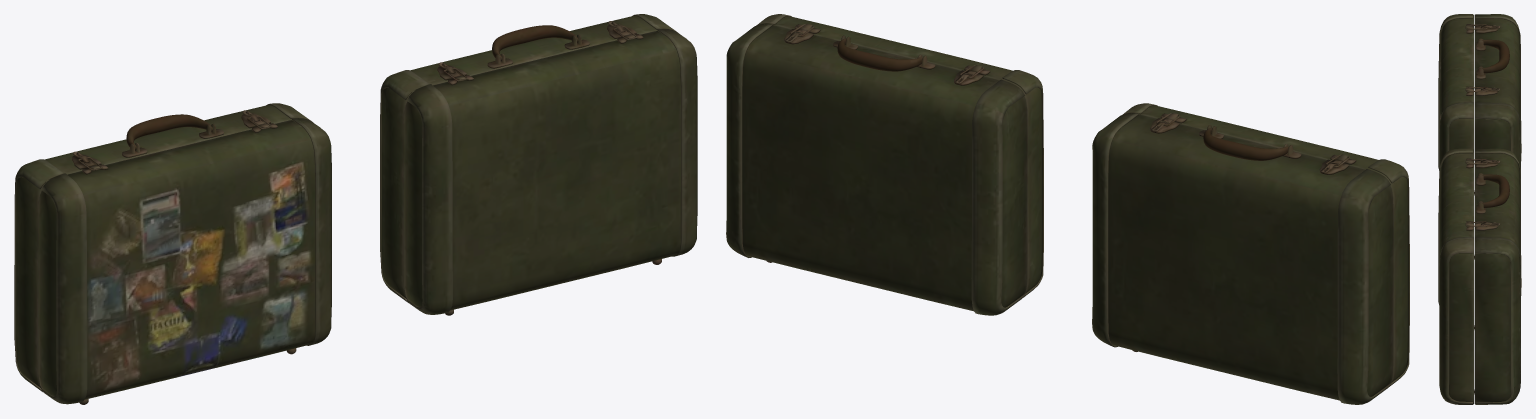
The model's file is vintage_suitcase.glb.
The picture shows the model from 3 angles, left to right: view 1: azimuth 30°, elevation 25°; view 2: azimuth 150°, elevation 25°; view 3: azimuth 270°, elevation 25°; orthographic projection. The views are drawn at different scales.
Parts seen in each view (by area): view 1: vintage_suitcase_02_top, vintage_suitcase_01_top, vintage_suitcase_01_bottom, vintage_suitcase_02_bottom, vintage_suitcase_01_handle, vintage_suitcase_02_handle; view 2: vintage_suitcase_01_bottom, vintage_suitcase_02_bottom, vintage_suitcase_01_top, vintage_suitcase_02_top, vintage_suitcase_01_handle, vintage_suitcase_02_handle; view 3: vintage_suitcase_01_bottom, vintage_suitcase_01_top, vintage_suitcase_02_bottom, vintage_suitcase_02_top, vintage_suitcase_01_handle, vintage_suitcase_02_handle, vintage_suitcase_01_clasp, vintage_suitcase_02_clasp.
Boxes of the visible parts, bbox=[...] form: vintage_suitcase_02_top: bbox=[38, 118, 331, 404]; vintage_suitcase_01_top: bbox=[404, 29, 697, 315]; vintage_suitcase_01_bottom: bbox=[380, 14, 677, 302]; vintage_suitcase_02_bottom: bbox=[14, 103, 313, 391]; vintage_suitcase_01_handle: bbox=[492, 25, 578, 61]; vintage_suitcase_02_handle: bbox=[126, 114, 213, 150]; vintage_suitcase_01_bottom: bbox=[726, 24, 1027, 315]; vintage_suitcase_02_bottom: bbox=[1092, 113, 1393, 404]; vintage_suitcase_01_top: bbox=[756, 14, 1043, 297]; vintage_suitcase_02_top: bbox=[1122, 103, 1409, 386]; vintage_suitcase_01_handle: bbox=[837, 38, 922, 71]; vintage_suitcase_02_handle: bbox=[1203, 128, 1288, 160]; vintage_suitcase_01_bottom: bbox=[1474, 148, 1521, 404]; vintage_suitcase_01_top: bbox=[1438, 148, 1474, 404]; vintage_suitcase_02_bottom: bbox=[1474, 14, 1521, 259]; vintage_suitcase_02_top: bbox=[1438, 14, 1474, 258]; vintage_suitcase_01_handle: bbox=[1482, 174, 1509, 207]; vintage_suitcase_02_handle: bbox=[1482, 39, 1509, 73]; vintage_suitcase_01_clasp: bbox=[1465, 159, 1487, 226]; vintage_suitcase_02_clasp: bbox=[1465, 24, 1487, 91].
Bounding box in the file's own units: 1.61 × 0.5679 × 0.2388.
2 materials, 2 textured.
